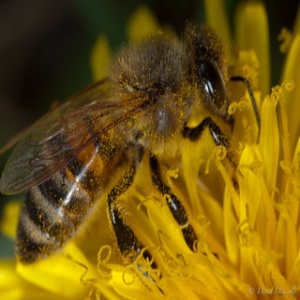bee: (2, 19, 262, 279)
